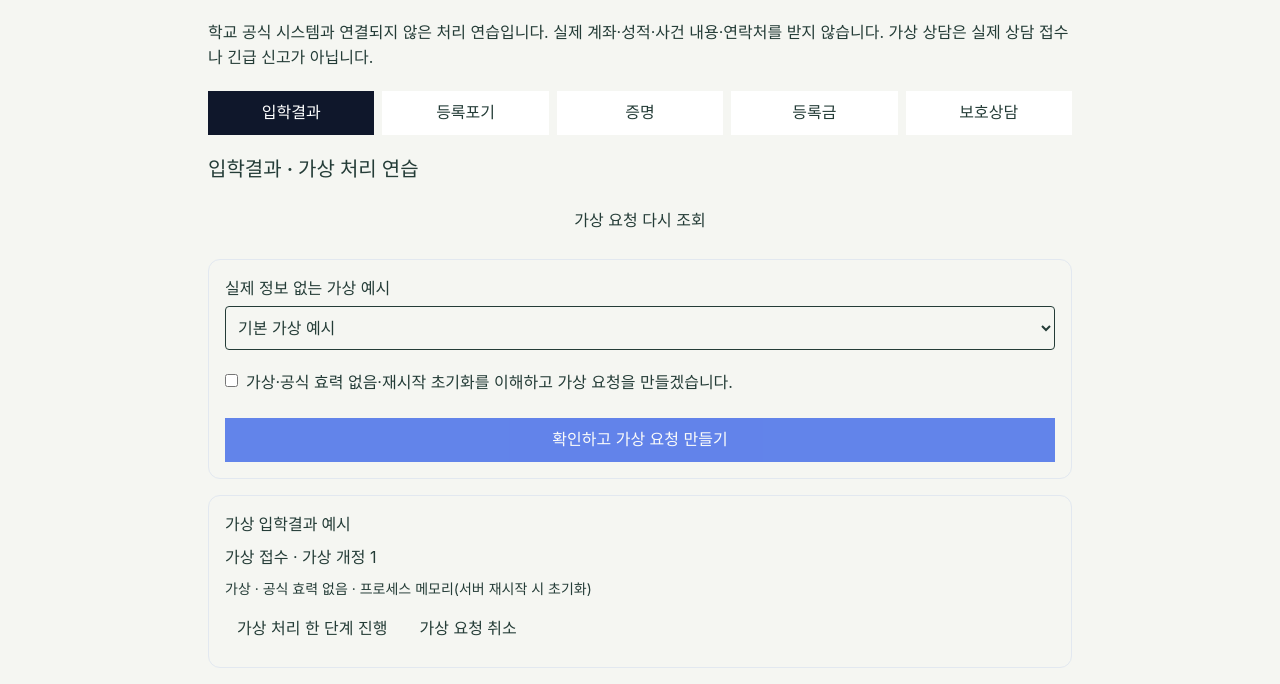
Test: DemoStudentServices › requires explicit second confirmation for advance and cancel, then rereads
(page scrolled)
Click the button "가상 처리 한 단계 진행" at [312, 629], box [225, 607, 400, 651]
(page scrolled)
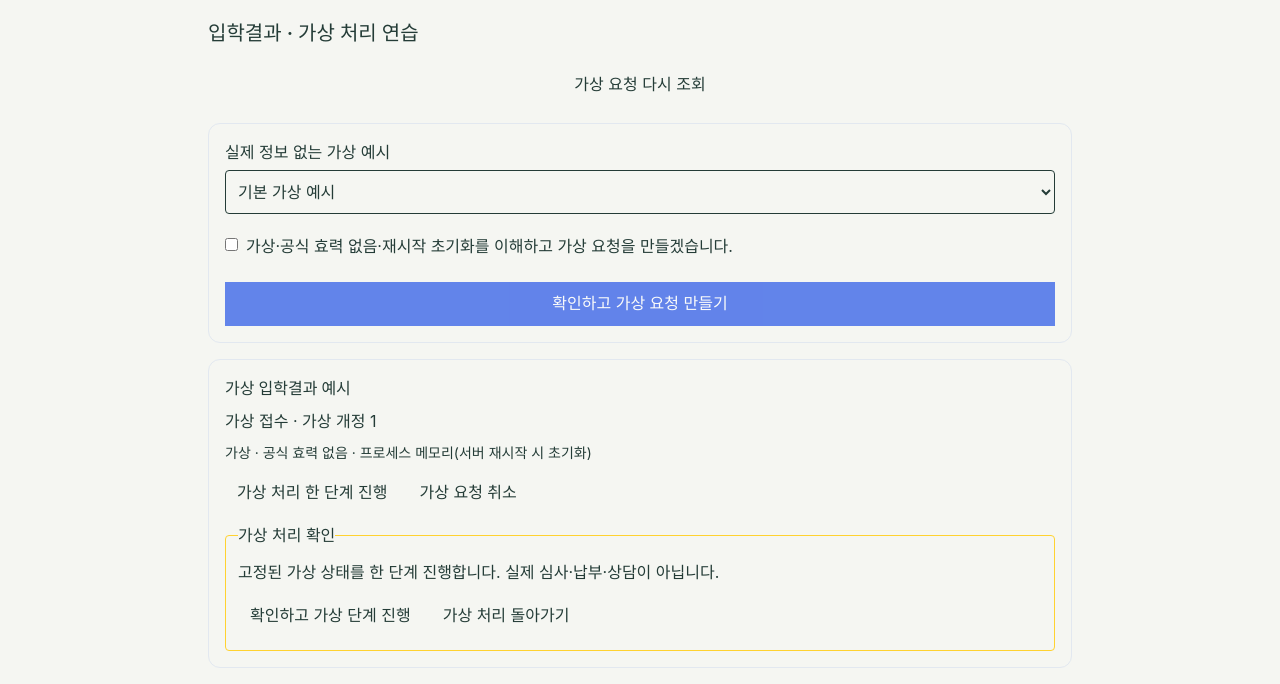
Click the button "확인하고 가상 단계 진행" at [330, 616], box [238, 594, 423, 638]
(page scrolled)
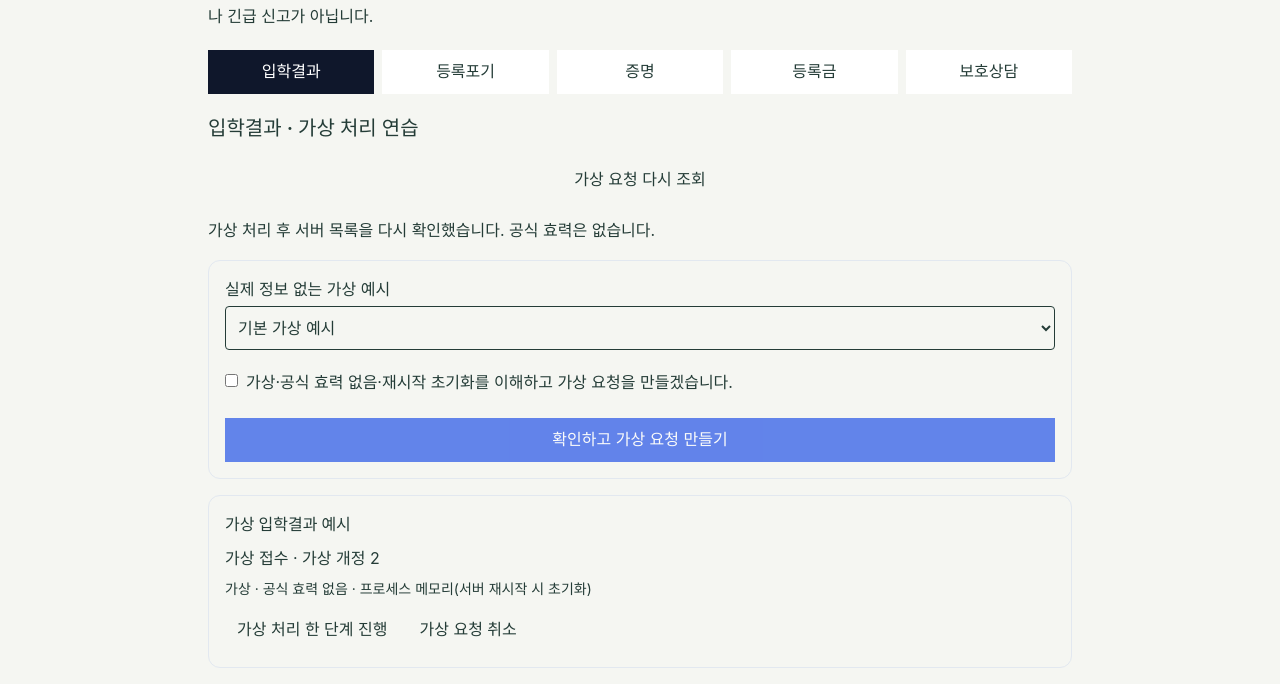
Check: the text "가상 처리 후 서버 목록을 다시 확인했습니다. 공식 효력은 없습니다." is shown, box [208, 220, 655, 240]
Click the button "가상 요청 취소" at [468, 629], box [408, 607, 529, 651]
(page scrolled)
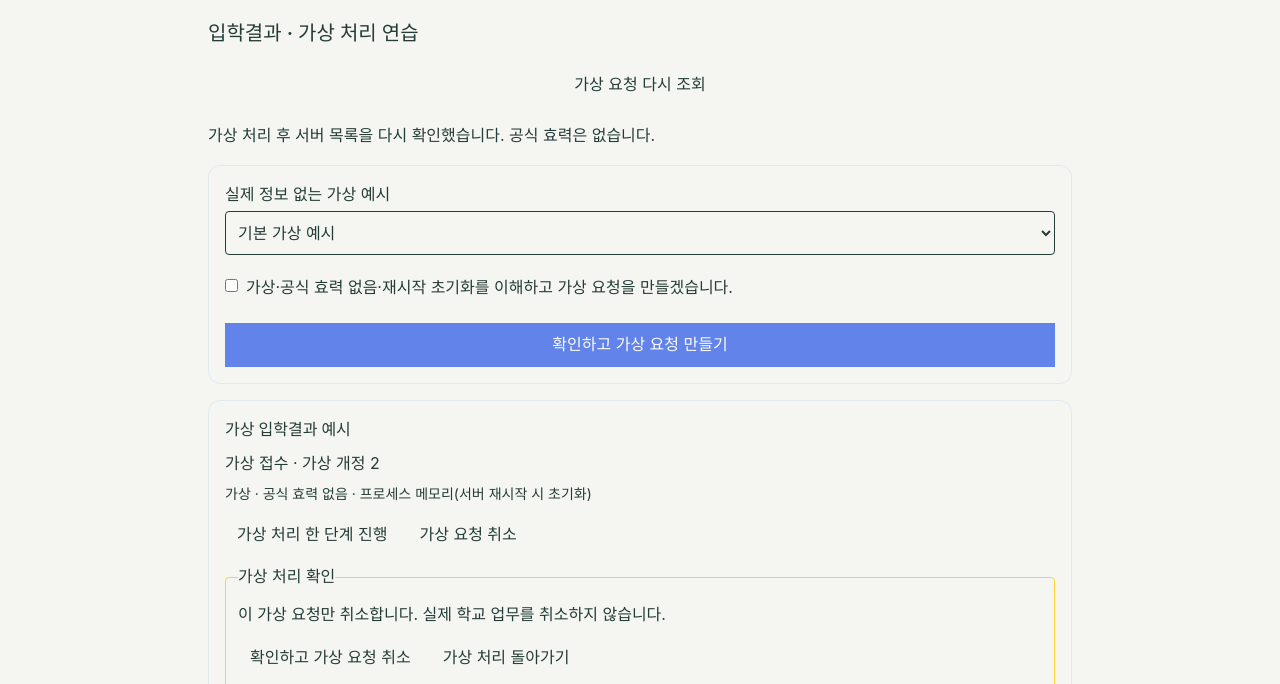
Click the button "확인하고 가상 요청 취소" at [330, 658], box [238, 636, 423, 680]
(page scrolled)
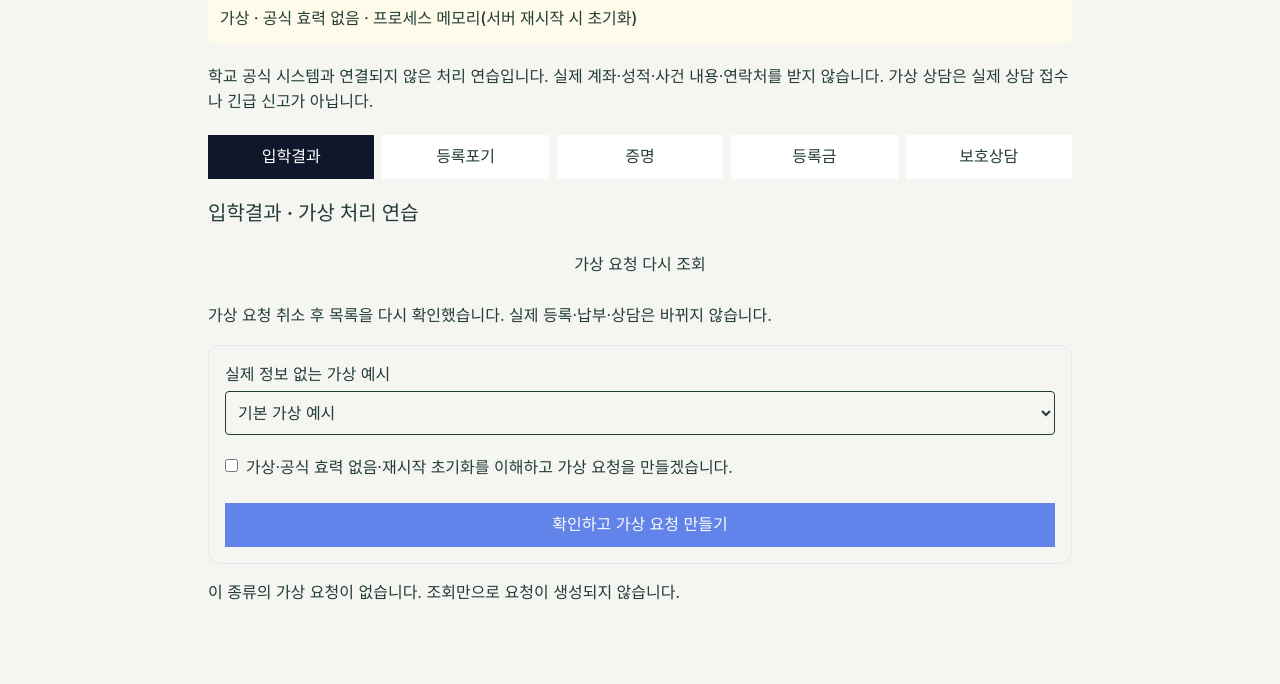
Check: the text "가상 요청 취소 후 목록을 다시 확인했습니다. 실제 등록·납부·상담은 바뀌지 않습니다." is shown, box [208, 305, 772, 325]
